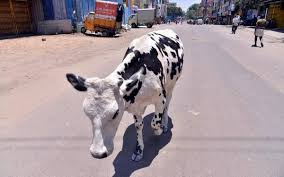waka: (61, 27, 188, 163)
